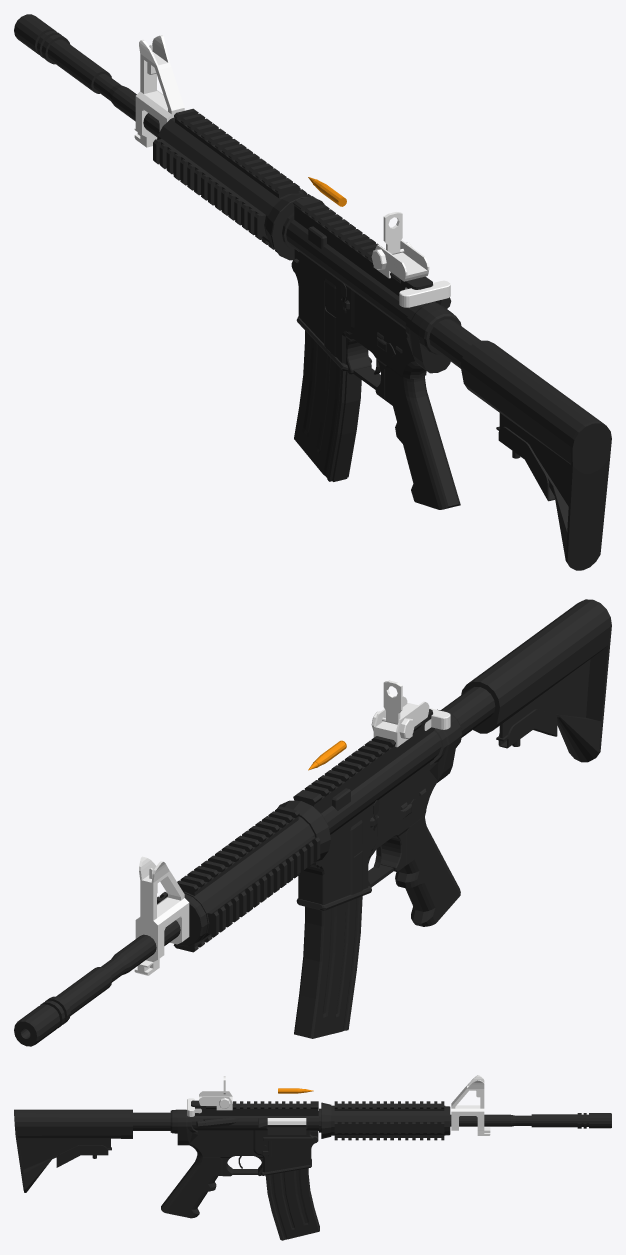
The picture shows the model from 3 angles, top to bottom: view 1: azimuth 30°, elevation 25°; view 2: azimuth 150°, elevation 25°; view 3: azimuth 270°, elevation 25°; orthographic projection. The views are drawn at different scales.
Visible parts, largest first — view 1: Cabo, Pente, Mira, Cano; view 2: Cabo, Pente, Mira, Cano; view 3: Cabo, Pente, Mira, Cano.
Boxes of the visible parts, x1,y1,x2,y2 form: Cabo: [153, 108, 611, 570]; Pente: [294, 331, 361, 481]; Mira: [134, 35, 450, 307]; Cano: [14, 14, 159, 136]; Cabo: [157, 599, 611, 952]; Pente: [294, 896, 362, 1038]; Mira: [134, 680, 450, 975]; Cano: [14, 920, 180, 1046]; Cabo: [14, 1100, 450, 1218]; Pente: [265, 1168, 319, 1240]; Mira: [187, 1075, 490, 1135]; Cano: [450, 1113, 611, 1128].
Bounding box in the file's own units: 1.96 × 8.9 × 29.94.
Materials: 6 (5 with a texture image).
